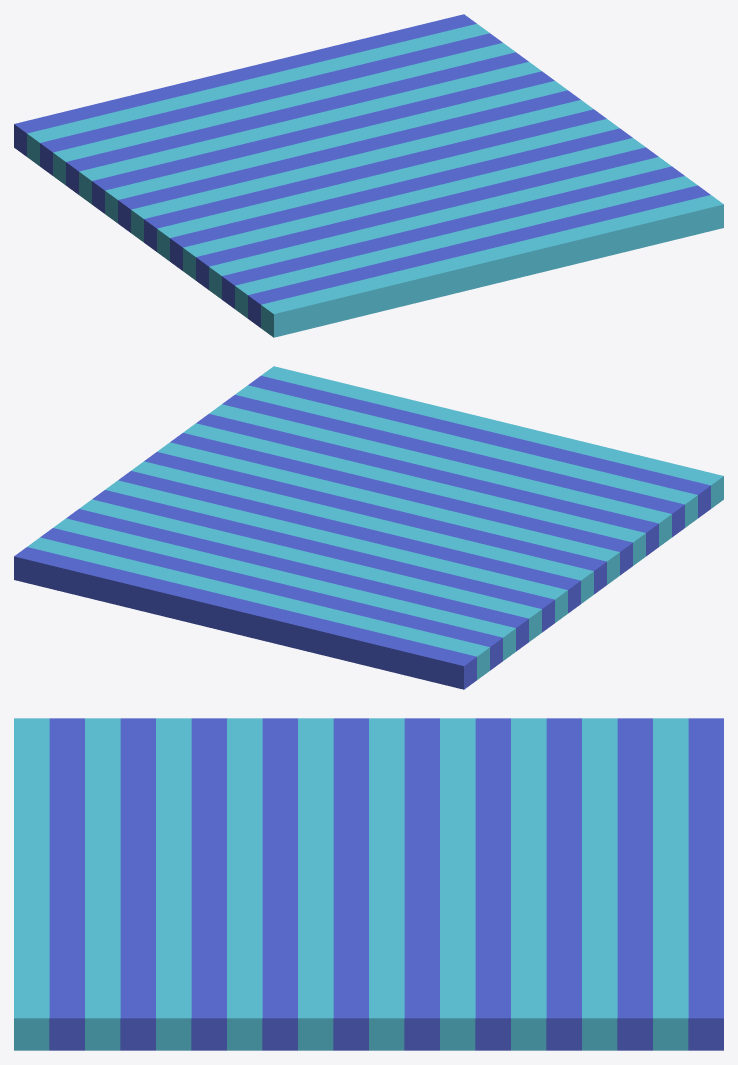
File: bathroom_carpet.obj
3 renders of one model, top to bottom at view 1: azimuth 30°, elevation 25°; view 2: azimuth 150°, elevation 25°; view 3: azimuth 270°, elevation 25°, orthographic. The views are drawn at different scales.
Parts seen in each view (by area): view 1: bathroom_carpet; view 2: bathroom_carpet; view 3: bathroom_carpet.
Part boxes in pixels (x1,y1,x2,y2): bathroom_carpet: (14,14,723,337); bathroom_carpet: (14,366,723,689); bathroom_carpet: (14,718,723,1050).
Size of the model in its own units: 20 by 1 by 20.
Materials: 1 (1 with a texture image).
